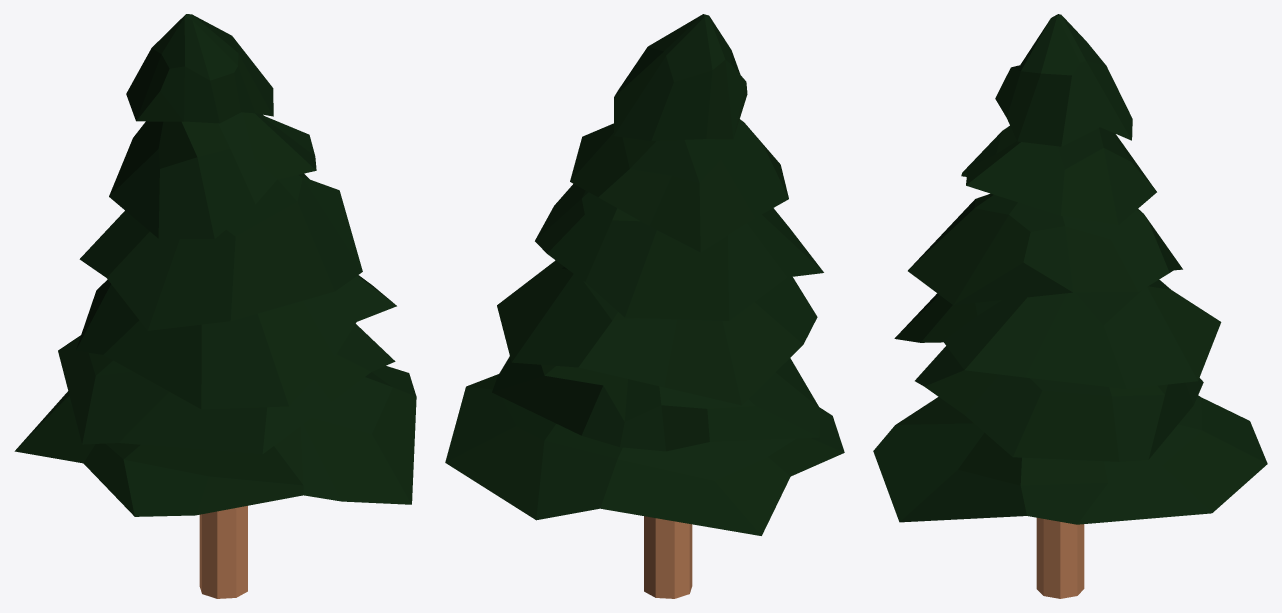
File: tree.obj
3 renders of one model, left to right at view 1: azimuth 30°, elevation 25°; view 2: azimuth 150°, elevation 25°; view 3: azimuth 270°, elevation 25°, orthographic. The views are drawn at different scales.
Visible parts, largest first — view 1: Cylinder_Cylinder.004; view 2: Cylinder_Cylinder.004; view 3: Cylinder_Cylinder.004.
Part boxes in pixels (x1,y1,x2,y2): Cylinder_Cylinder.004: (14,14,416,598); Cylinder_Cylinder.004: (445,14,844,598); Cylinder_Cylinder.004: (873,14,1267,598).
Bounding box in the file's own units: 2.77 × 4.47 × 2.87.
